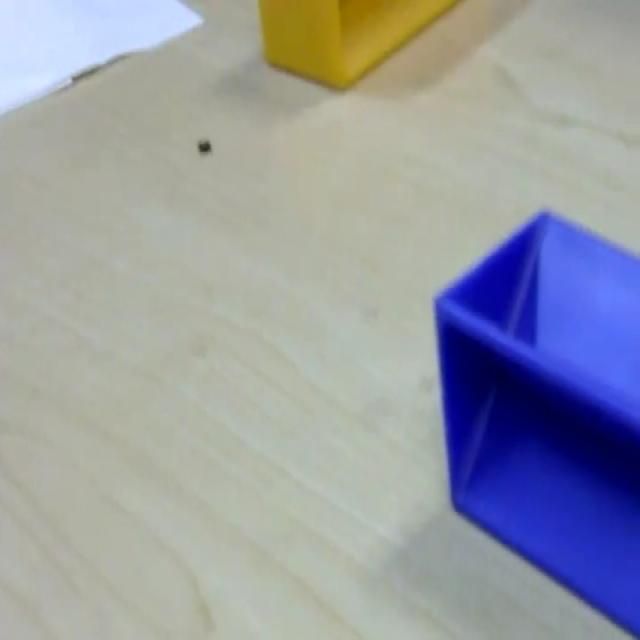blue_block: (432, 205, 638, 635)
yellow_block: (257, 0, 460, 91)
